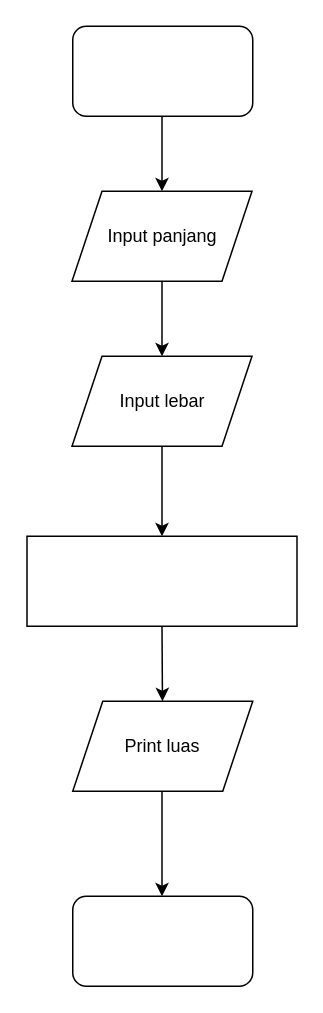
This 323x1013 diagram has some shape labels left out. Each missing label, with the centre of its shape:
"Luas = panjang * lebar" belongs at [161,580].
"Mulai" belongs at [162,70].
